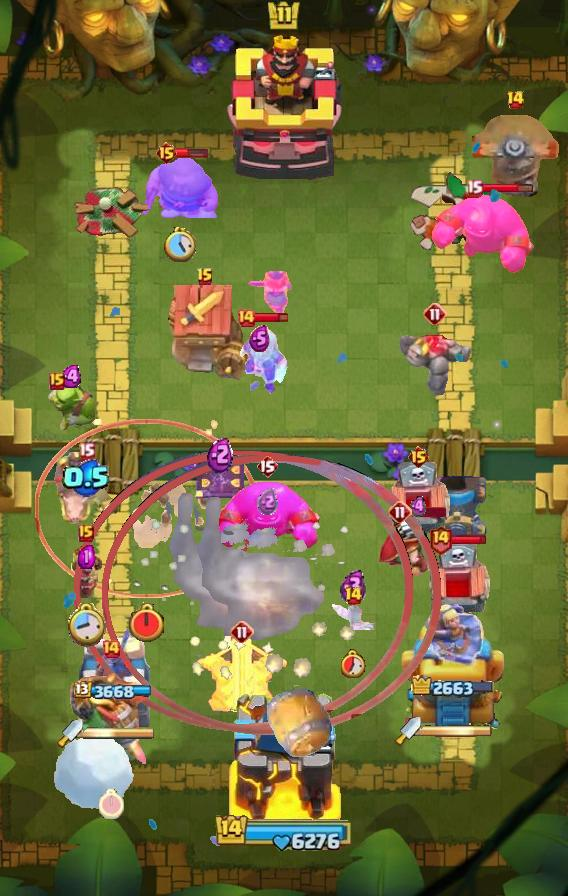bar: (398, 595, 508, 731), (75, 623, 153, 731)
barbarian: (328, 600, 378, 630)
bomber-evolution: (69, 546, 103, 598)
clock: (214, 812, 354, 852)
clone: (430, 193, 538, 275), (211, 479, 323, 551)
dark-prince: (470, 115, 560, 201)
dirt: (263, 683, 333, 759)
electro-spirit: (61, 459, 110, 497), (207, 435, 233, 472), (340, 569, 367, 603), (257, 489, 279, 516), (60, 364, 84, 388), (249, 324, 270, 351), (77, 545, 94, 569), (410, 495, 426, 519)
elixir: (66, 604, 105, 649), (126, 602, 165, 644), (164, 226, 196, 261), (99, 789, 124, 819), (341, 649, 366, 678)
elixir-golem-mid: (383, 460, 453, 546), (423, 541, 493, 627)
emote: (481, 182, 534, 193), (254, 312, 289, 325), (175, 147, 209, 159), (452, 535, 489, 546), (410, 507, 446, 517)
flying-machine: (41, 378, 103, 434)
freeze: (50, 449, 122, 527)
guard: (34, 418, 257, 597)
hog-rider: (246, 269, 294, 323)
ice-spirit-evolution-symbol: (193, 452, 247, 502)
king-tower: (226, 33, 342, 181), (226, 688, 342, 826)
king-tower-bar: (421, 724, 493, 738), (83, 726, 155, 740)
lava-pup: (193, 634, 291, 716)
mortar: (229, 323, 289, 397)
musketeer: (427, 476, 487, 540)
night-witch: (69, 661, 153, 775)
royal-ghost: (74, 451, 413, 731), (102, 455, 441, 735)
royal-hog: (140, 154, 220, 218)
selected: (412, 675, 497, 700), (74, 681, 154, 701)
skeleton-king: (377, 515, 455, 577)
sparky: (162, 284, 248, 382)
text: (428, 525, 453, 556), (423, 302, 447, 326), (388, 500, 412, 524), (230, 620, 254, 644), (155, 141, 178, 165), (406, 445, 429, 469), (256, 454, 278, 478), (236, 308, 256, 328), (101, 639, 121, 659), (507, 90, 526, 110), (344, 586, 363, 606), (196, 267, 214, 287), (465, 178, 483, 197), (77, 442, 94, 461), (49, 372, 65, 390), (78, 524, 94, 542)
valkyrie-evolution: (397, 330, 473, 398)
wall-breaker: (51, 733, 135, 811)
